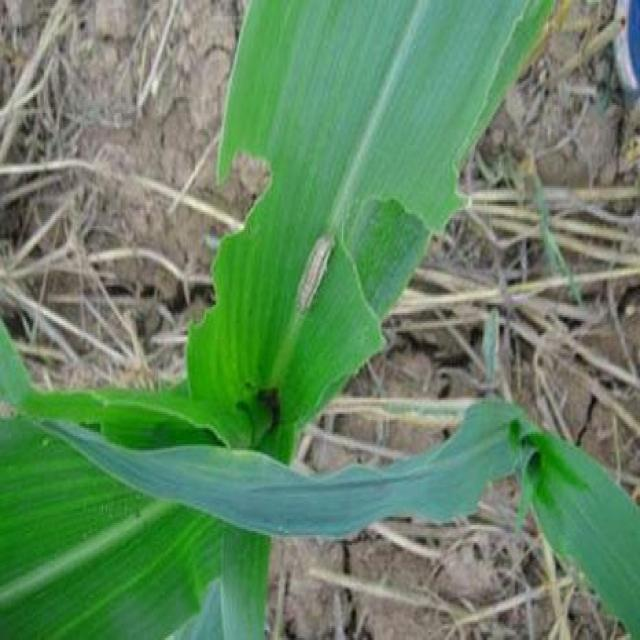army worm: (294, 226, 337, 321)
